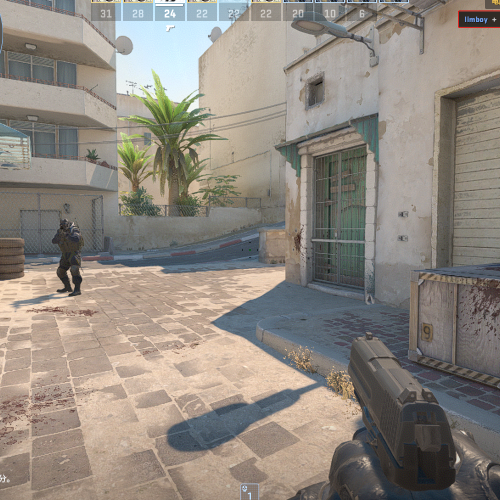ct_body: (51, 217, 84, 298)
ct_head: (59, 216, 70, 232)
